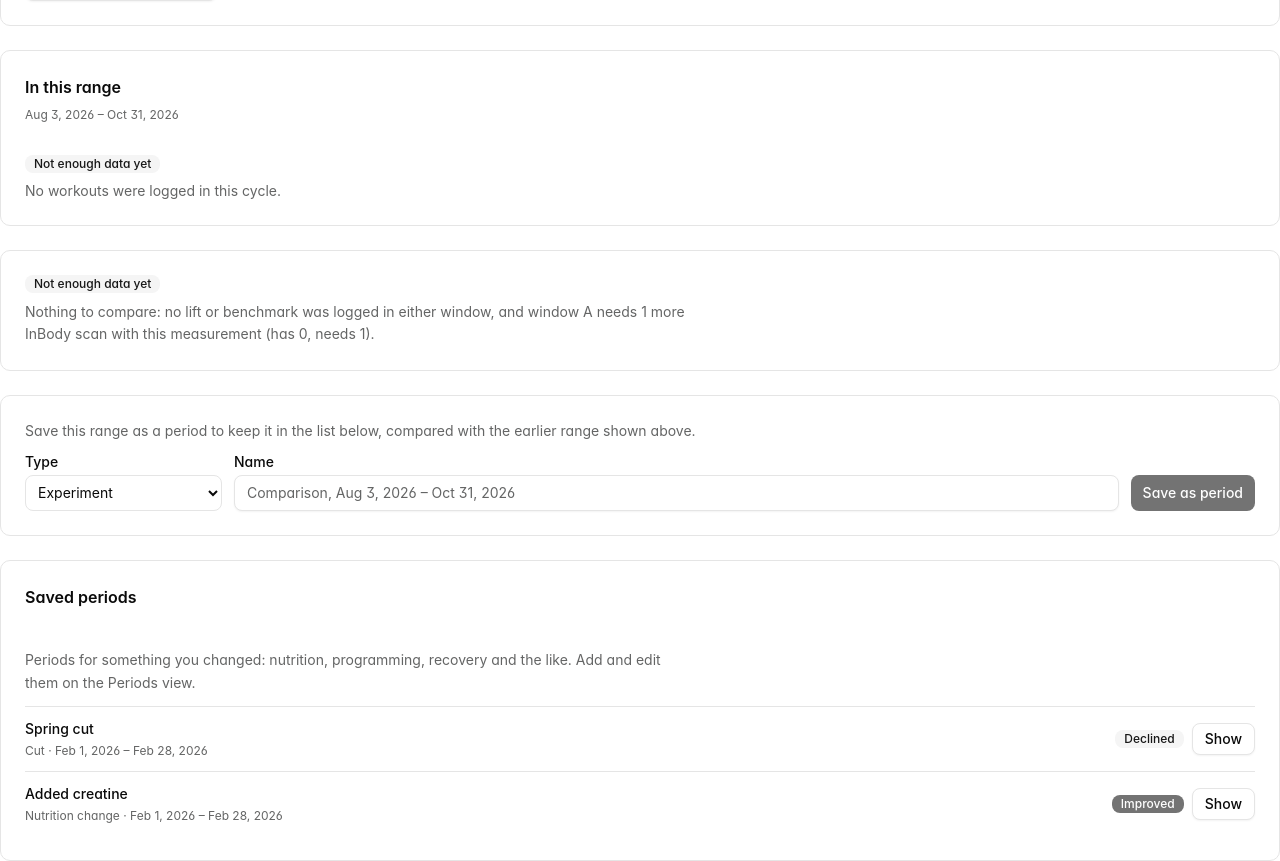
Scenario: CompareTab — saved ranges › shows a verdict for a period that isn't an experiment, with the cut note under a cut's
(page scrolled)
Click the button named "Show \"Added creatine\"" at x=1223, y=804, box [1192,788,1255,820]
(page scrolled)
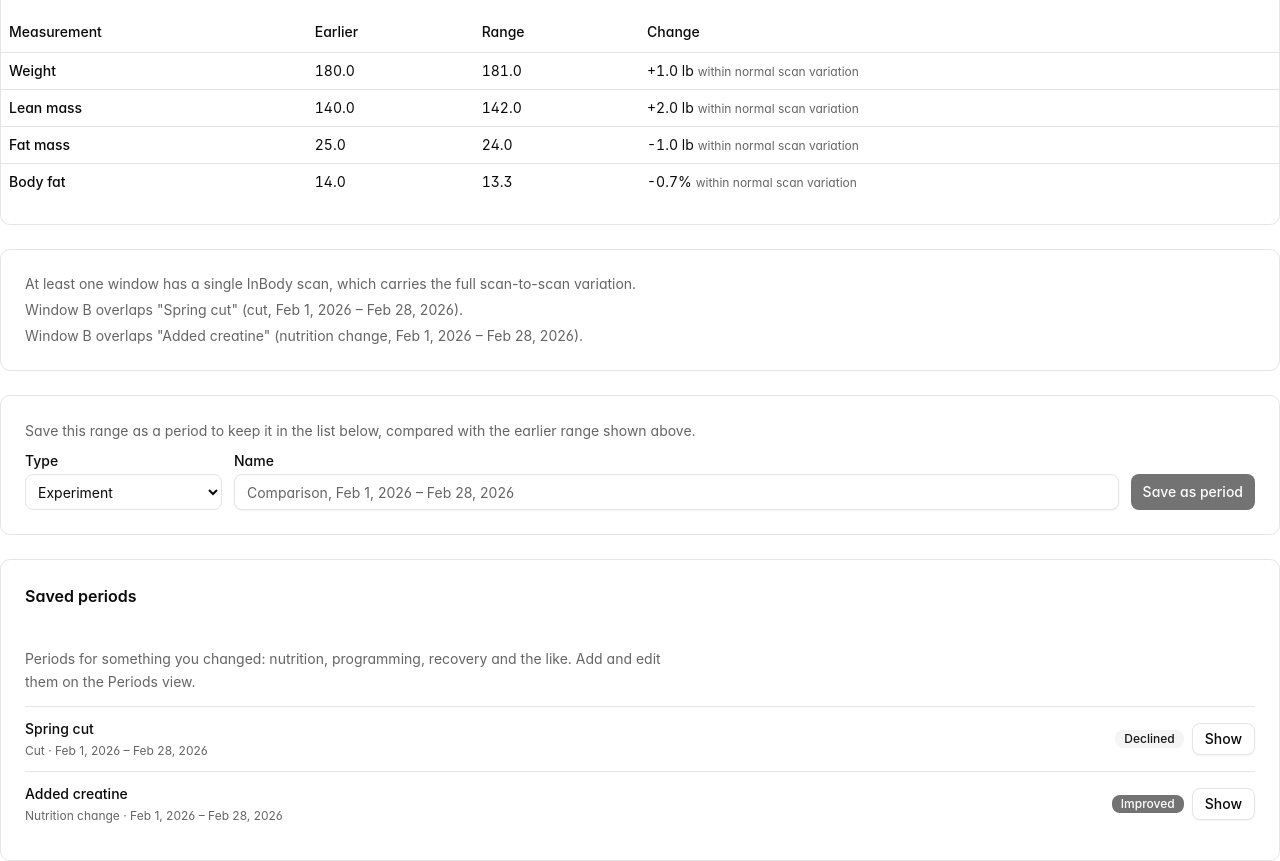
Expected: the text "during a cut" is not shown
Click the button named "Show \"Spring cut\"" at x=1223, y=739, box [1192,723,1255,755]
(page scrolled)
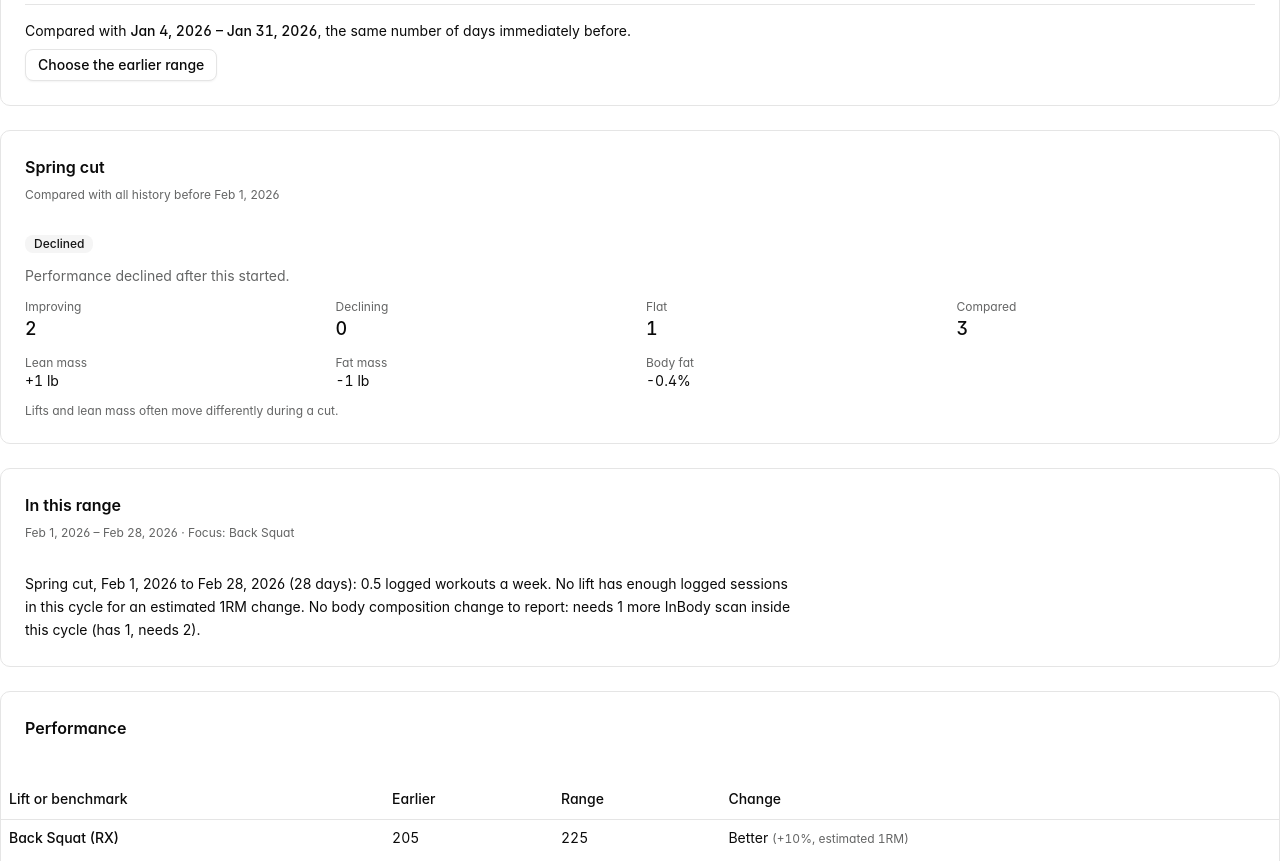
Now the text "Performance declined after this started." is shown, box [25,266,290,284]
Now the text "Lifts and lean mass often move differently during a cut." is shown, box [25,403,338,418]
